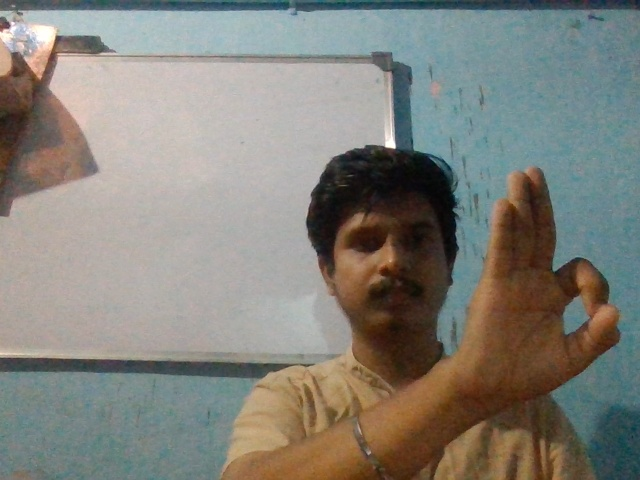Chin: (453, 156, 627, 420)
